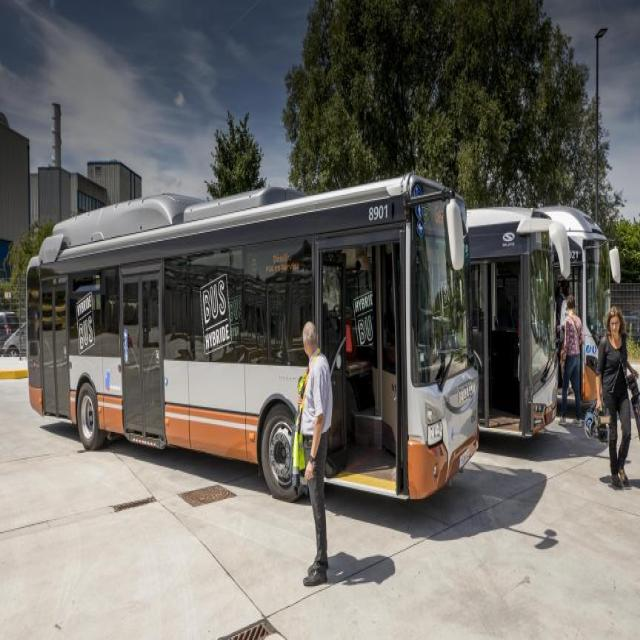Bus: (26, 174, 480, 501)
